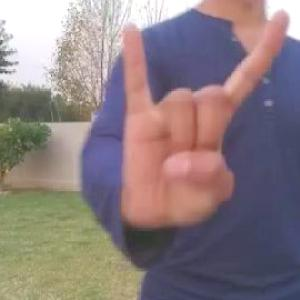takeoff-hand: (115, 0, 296, 248)
